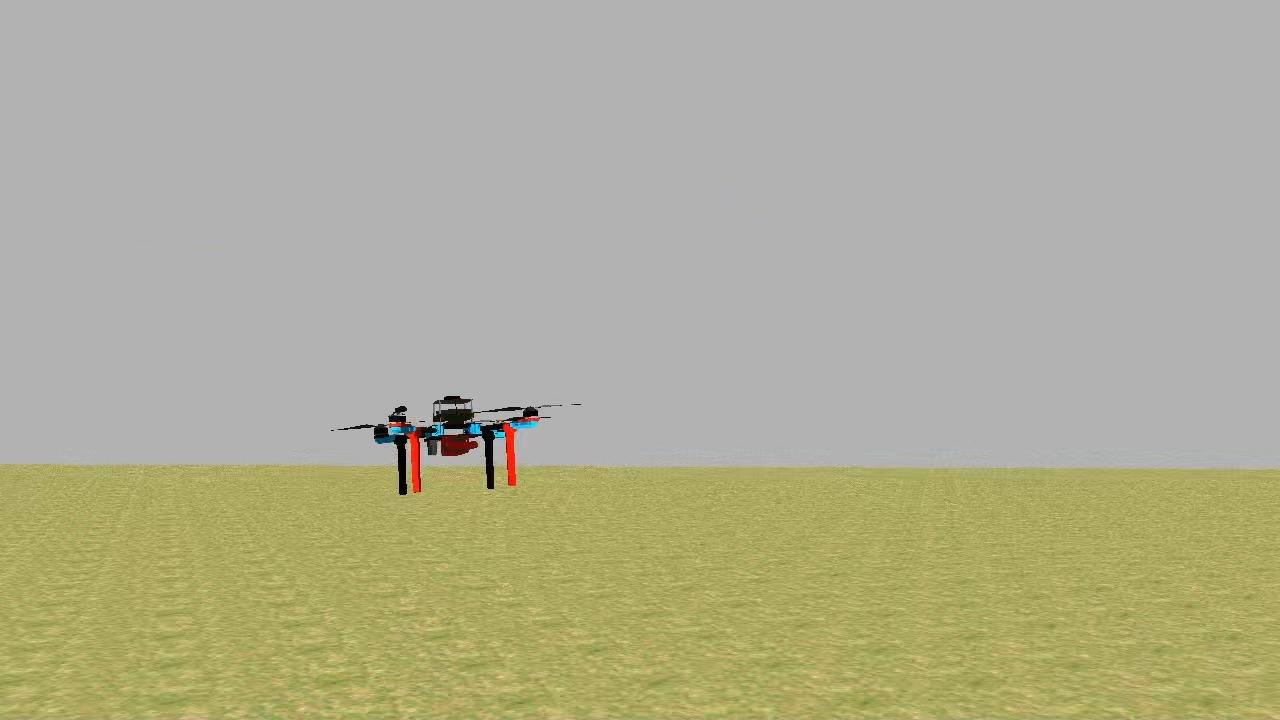UAV: (364, 388, 547, 502)
